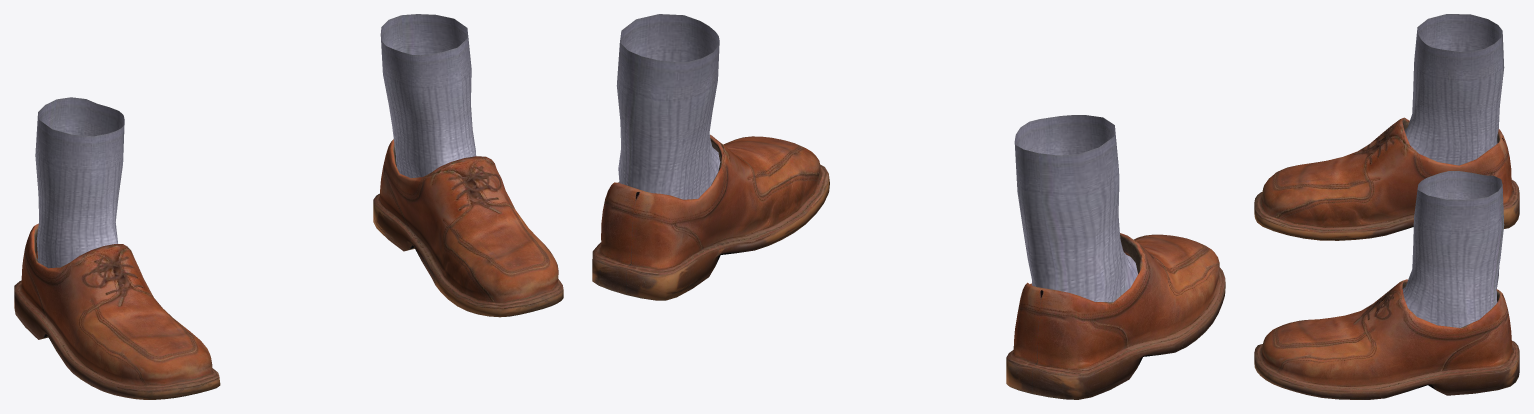
The model's file is boots-brown.glb.
The picture shows the model from 3 angles, left to right: view 1: azimuth 30°, elevation 25°; view 2: azimuth 150°, elevation 25°; view 3: azimuth 270°, elevation 25°; orthographic projection. The views are drawn at different scales.
Visible parts, largest first — view 1: boots-brown; view 2: boots-brown; view 3: boots-brown.
Part boxes in pixels (x1,y1,x2,y2): boots-brown: [14, 14, 563, 399]; boots-brown: [592, 14, 1225, 399]; boots-brown: [1254, 14, 1519, 399].
Bounding box in the file's own units: 0.5328 × 0.2333 × 0.2925.
Materials: 1 (1 with a texture image).
